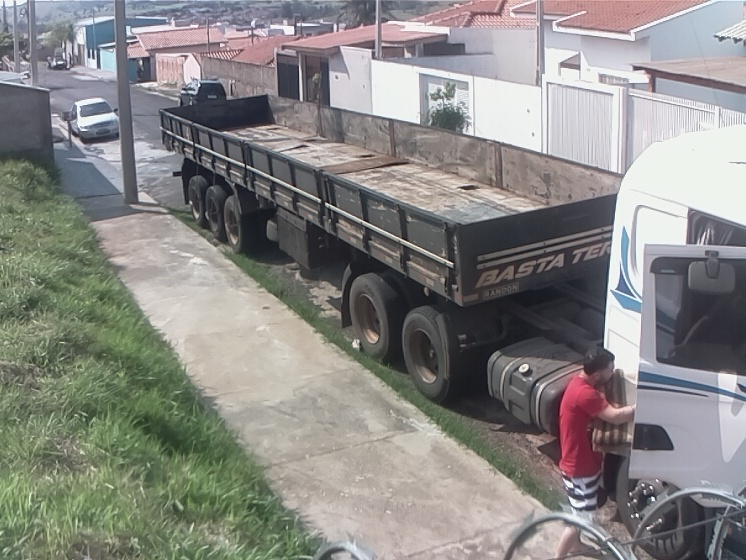person: (555, 343, 638, 560)
